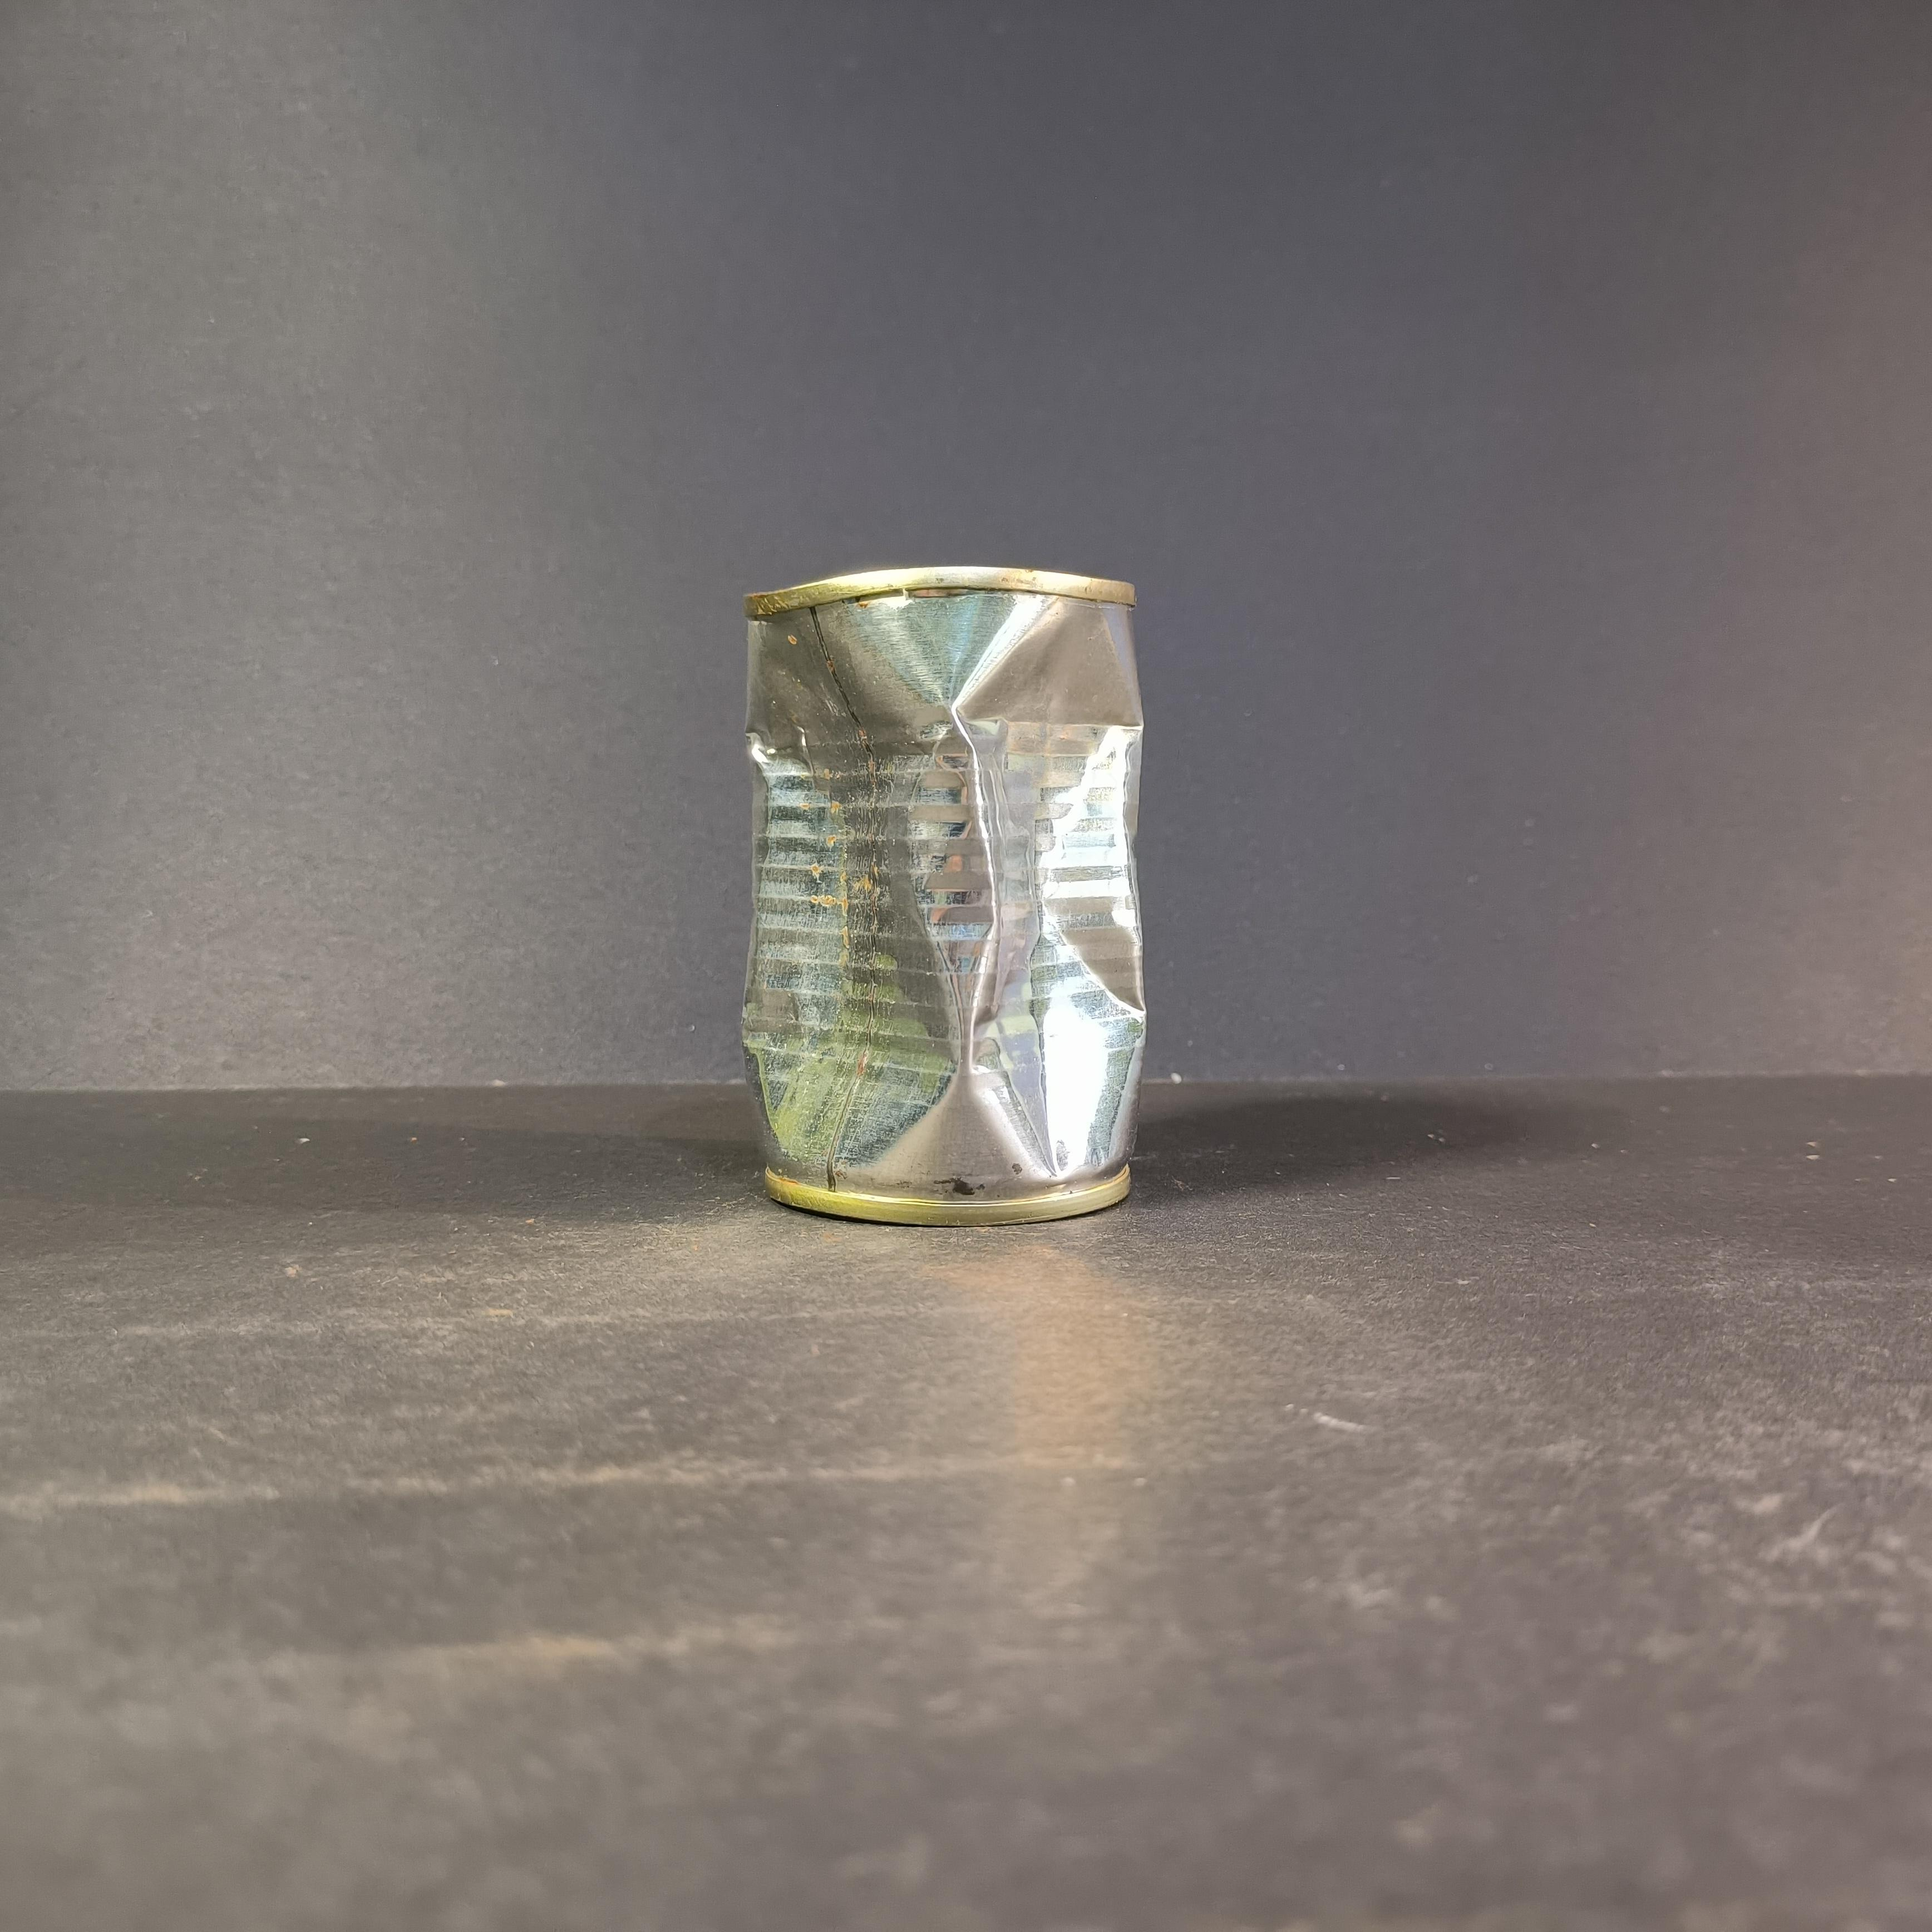Dented: (715, 545, 1185, 1279)
